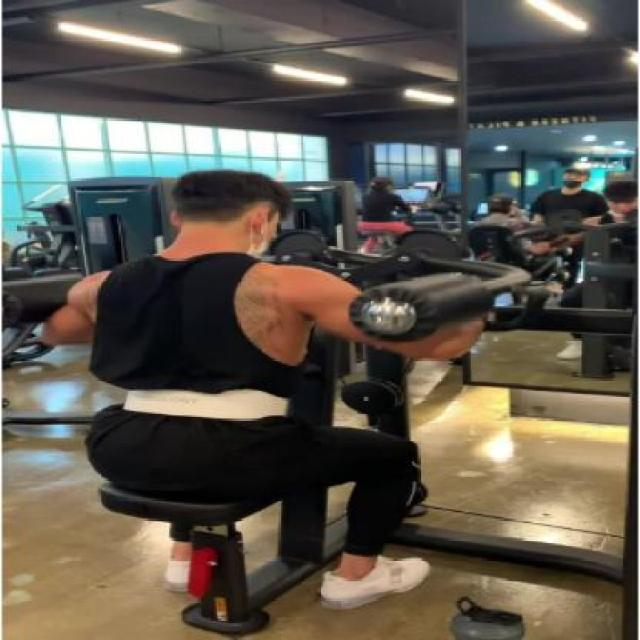lateral raises machine: (0, 231, 534, 611)
